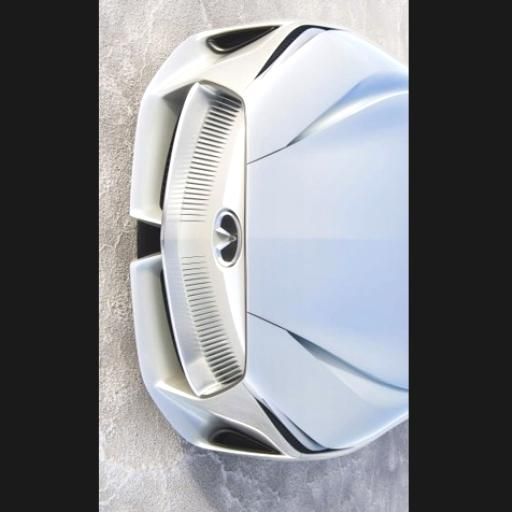sedan: (130, 22, 408, 458)
